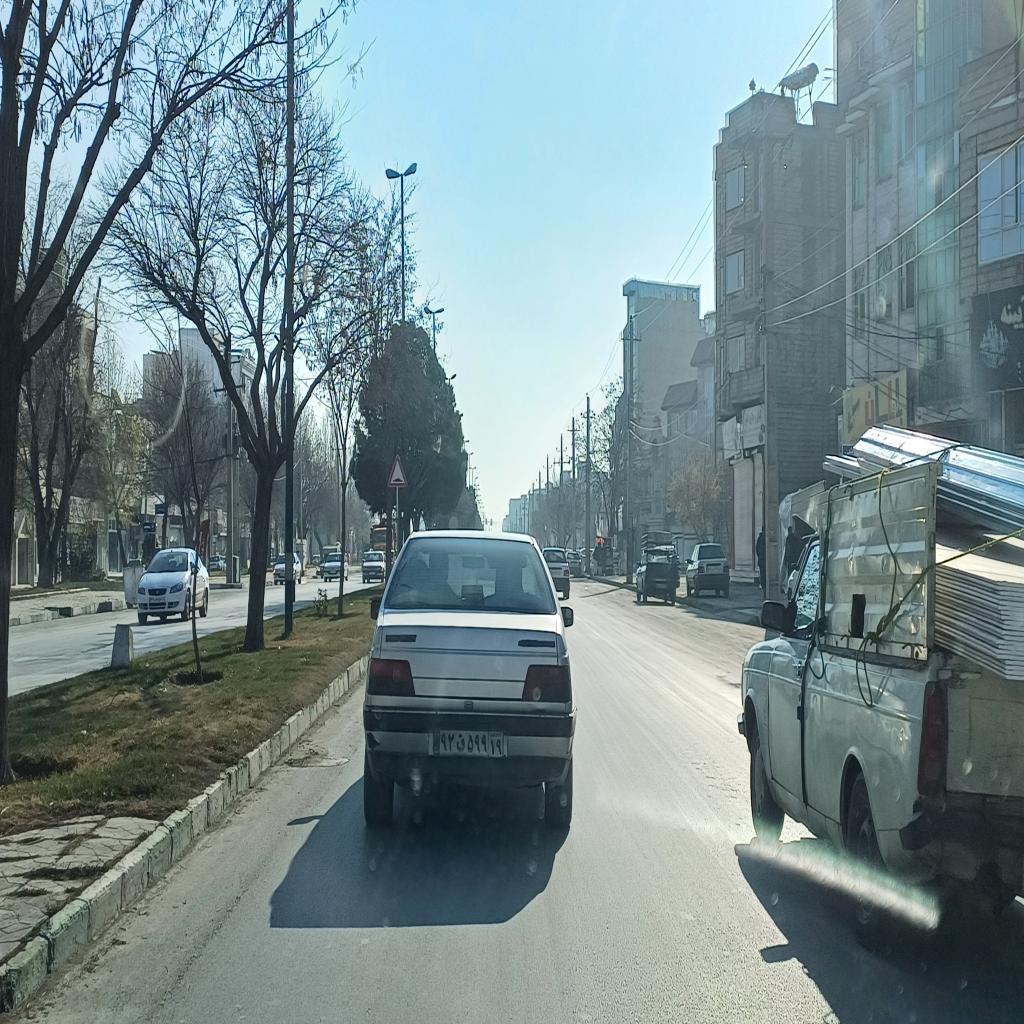Plates: (432, 729, 504, 759)
